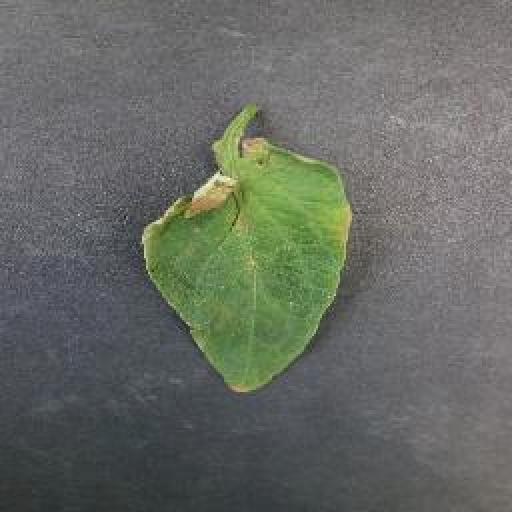disease_tomato: (138, 134, 354, 400)
